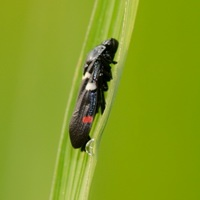insect: (69, 38, 117, 150)
